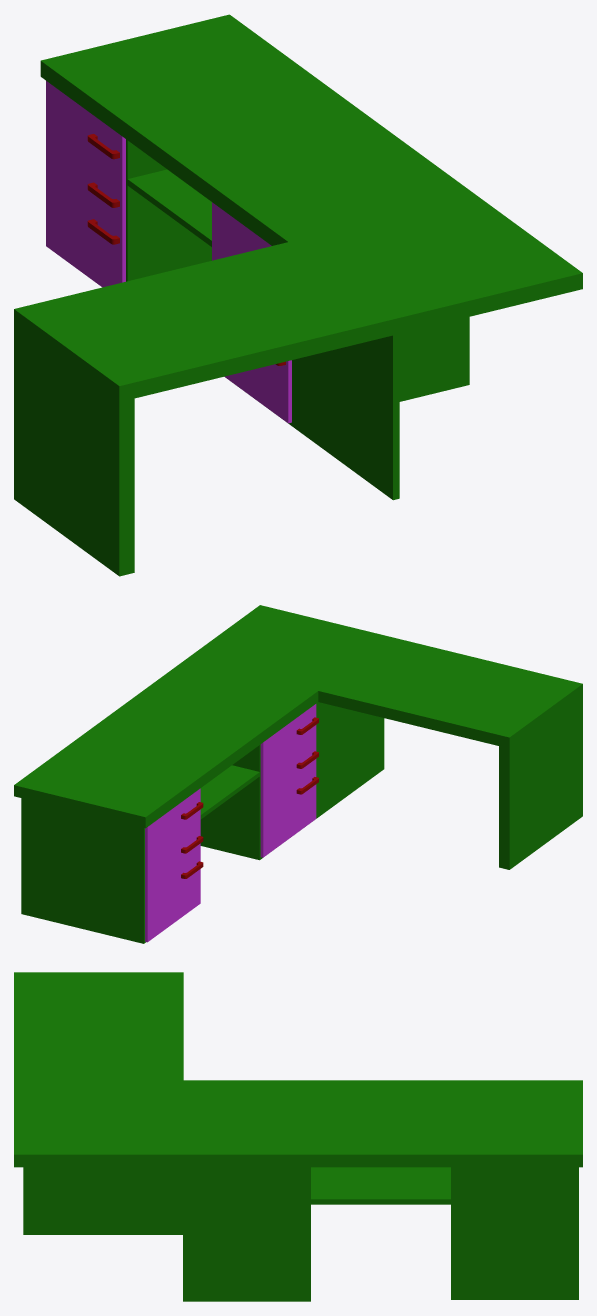
File: bureau_test-v2 (2).fbx
The picture shows the model from 3 angles, top to bottom: view 1: azimuth 30°, elevation 25°; view 2: azimuth 150°, elevation 25°; view 3: azimuth 270°, elevation 25°; orthographic projection. The views are drawn at different scales.
Parts seen in each view (by area): view 1: Bureau, Tir_01, Tir_02, Tir_00, Tir_05, Tir_03; view 2: Bureau, Tir_05, Tir_01, Tir_04, Tir_02, Tir_03, Tir_00; view 3: Bureau.
Part boxes in pixels (x1,y1,x2,y2): Bureau: [14, 14, 582, 576]; Tir_01: [46, 177, 125, 287]; Tir_02: [46, 128, 125, 232]; Tir_00: [46, 81, 125, 183]; Tir_05: [224, 360, 291, 423]; Tir_03: [212, 202, 271, 257]; Bureau: [14, 605, 582, 943]; Tir_05: [260, 771, 318, 857]; Tir_01: [145, 855, 203, 942]; Tir_04: [260, 737, 318, 809]; Tir_02: [145, 821, 203, 893]; Tir_03: [260, 704, 318, 775]; Tir_00: [145, 788, 203, 859]; Bureau: [14, 972, 582, 1301].
Bounding box in the file's own units: 203 × 79.71 × 268.
